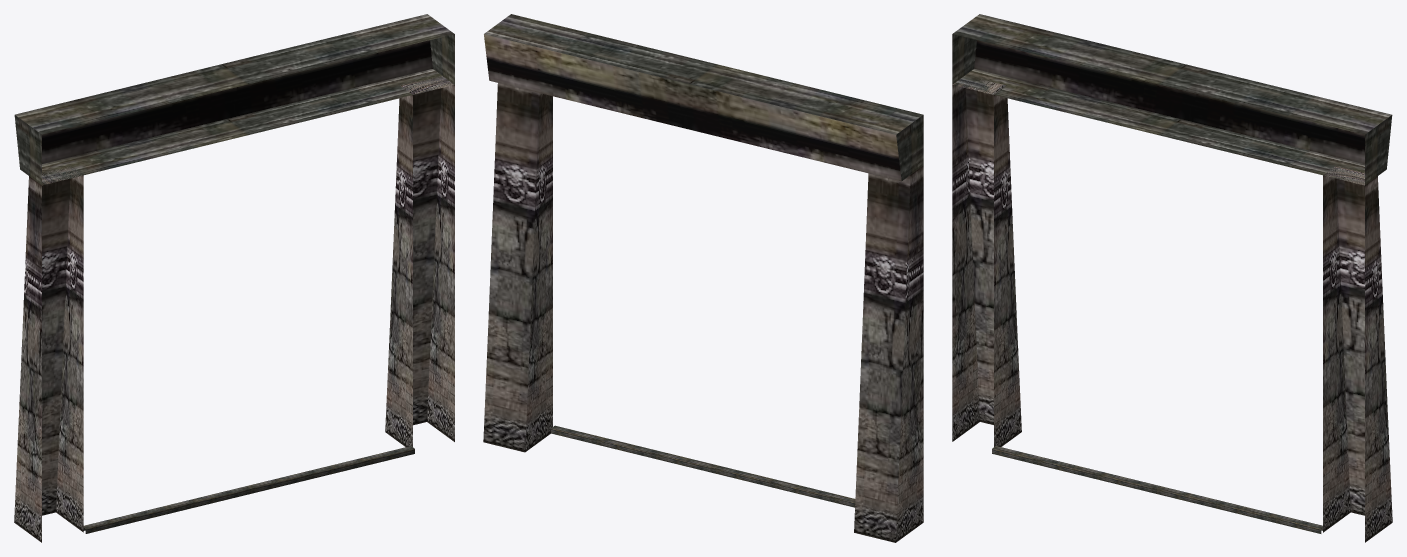
File: sobs160.obj
3 views of the same model, side by side, from view 1: azimuth 30°, elevation 25°; view 2: azimuth 150°, elevation 25°; view 3: azimuth 330°, elevation 25° (orthographic).
Visible parts, largest first — view 1: sobs160; view 2: sobs160; view 3: sobs160.
Part boxes in pixels (x1,y1,x2,y2): sobs160: [14, 14, 454, 542]; sobs160: [483, 14, 923, 542]; sobs160: [952, 14, 1392, 542].
Bounding box in the file's own units: 125 × 118 × 15.68.
